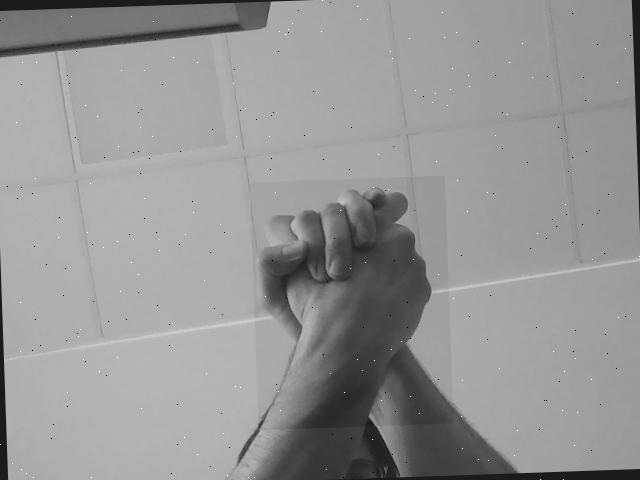friend: (252, 179, 449, 426)
